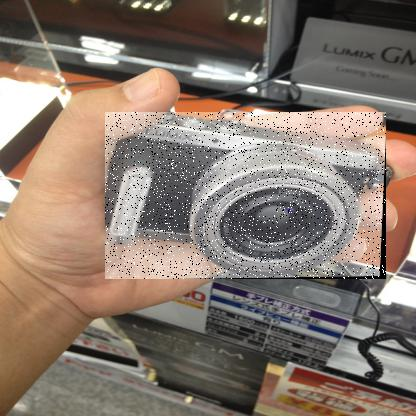Camera: (106, 113, 388, 281)
